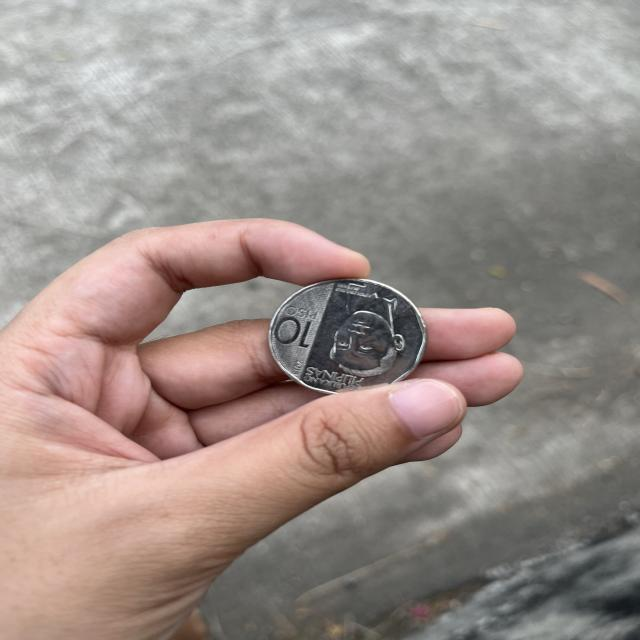10_New_Front: (272, 303, 316, 352)
